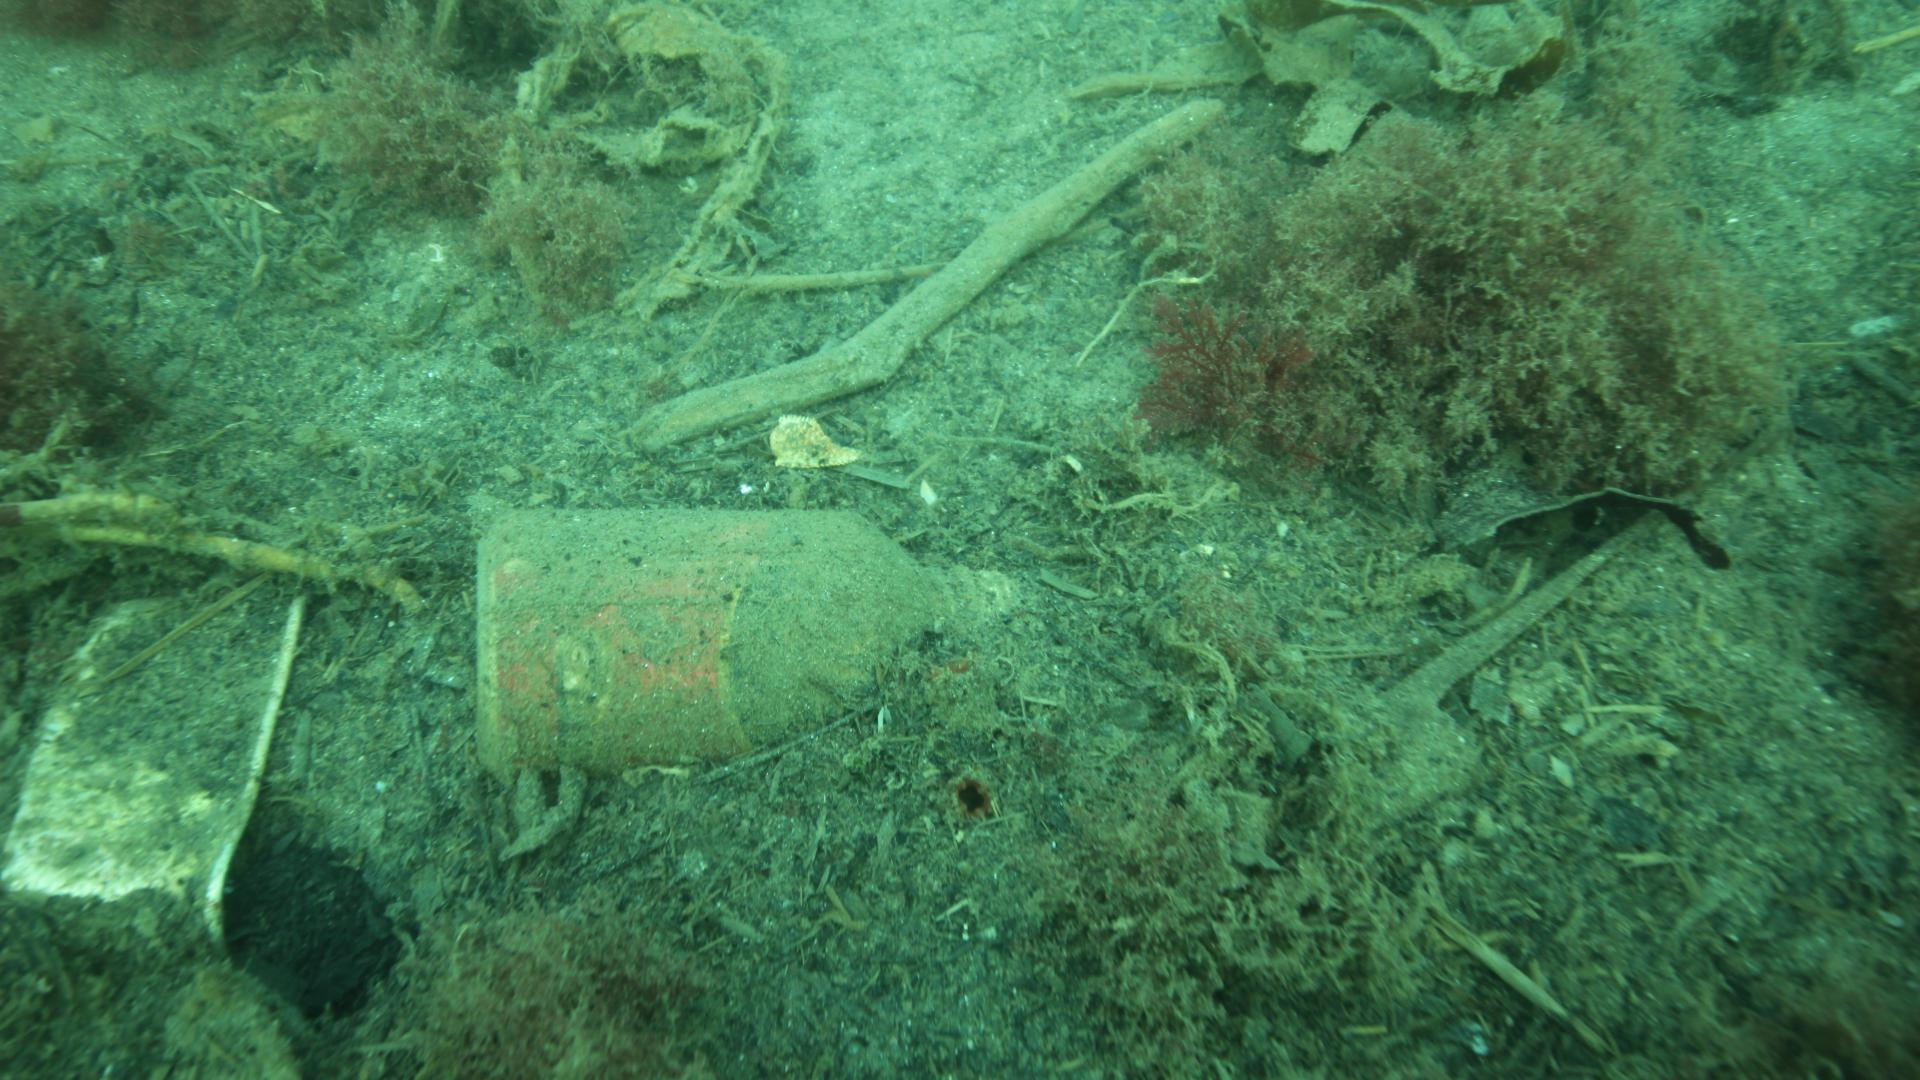wood: (636, 96, 1224, 450)
